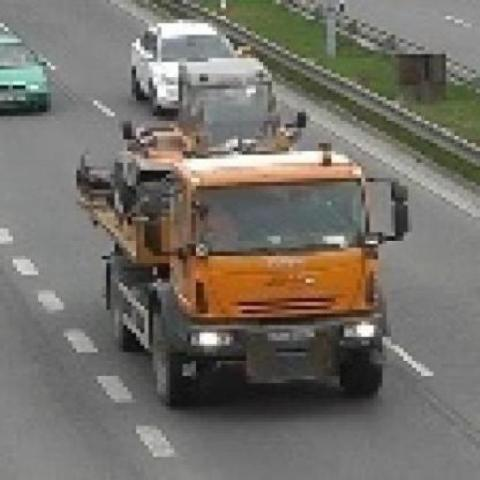car: (0, 34, 55, 111)
truck: (108, 150, 408, 398)
van: (131, 21, 238, 115), (177, 60, 281, 147)
